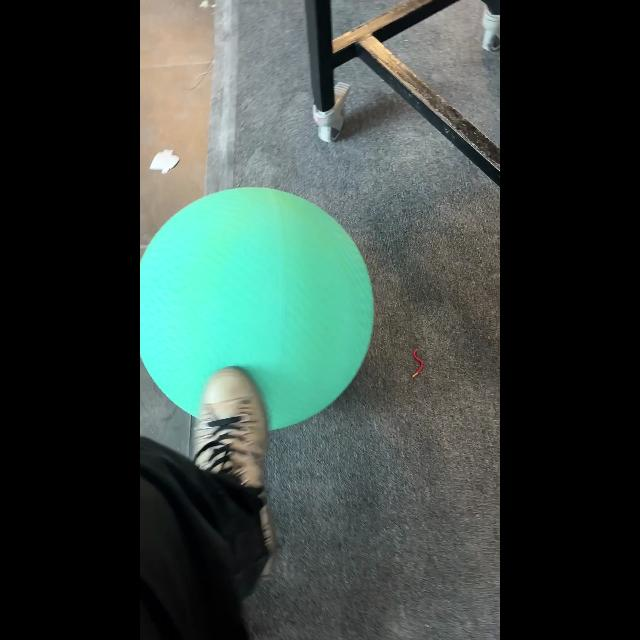ALGAE: (141, 186, 375, 430)
